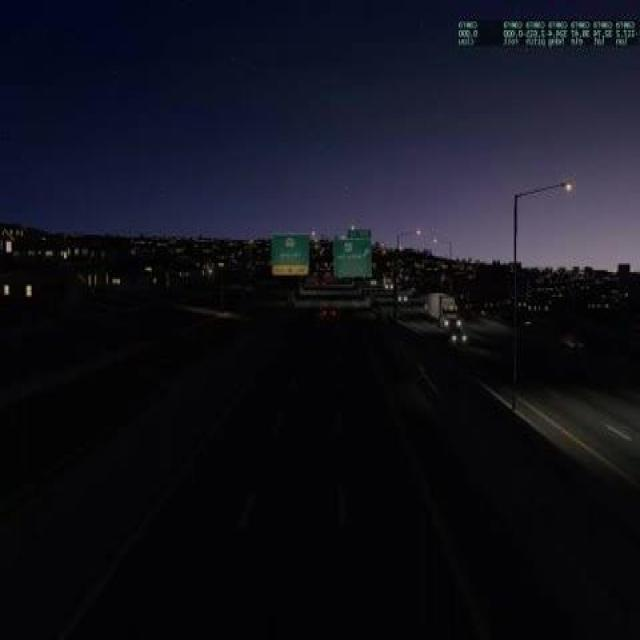Car: (447, 334, 471, 348)
Truck: (427, 290, 462, 330)
